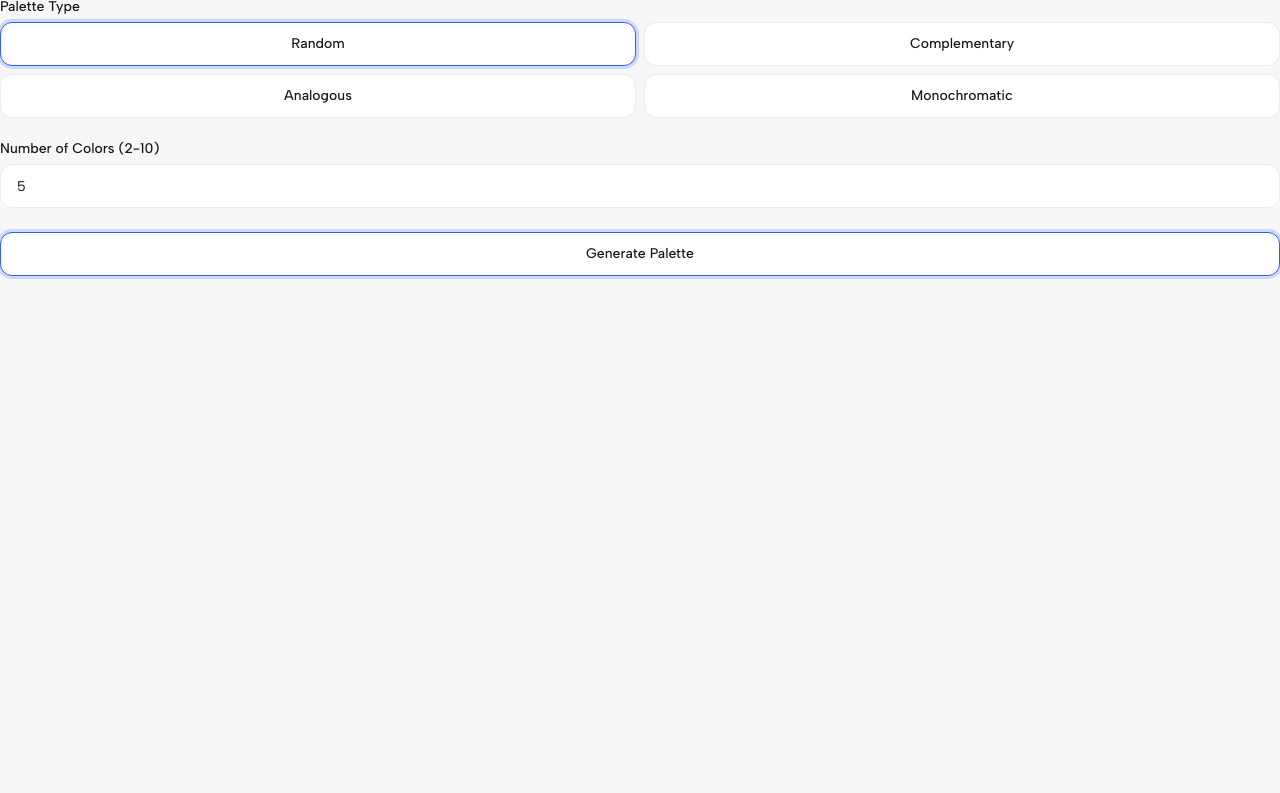
Test: ColorPaletteGeneratorTool › generates monochromatic palette
Click the button "Monochromatic". click: click(962, 96)
box: [644,74,1279,118]
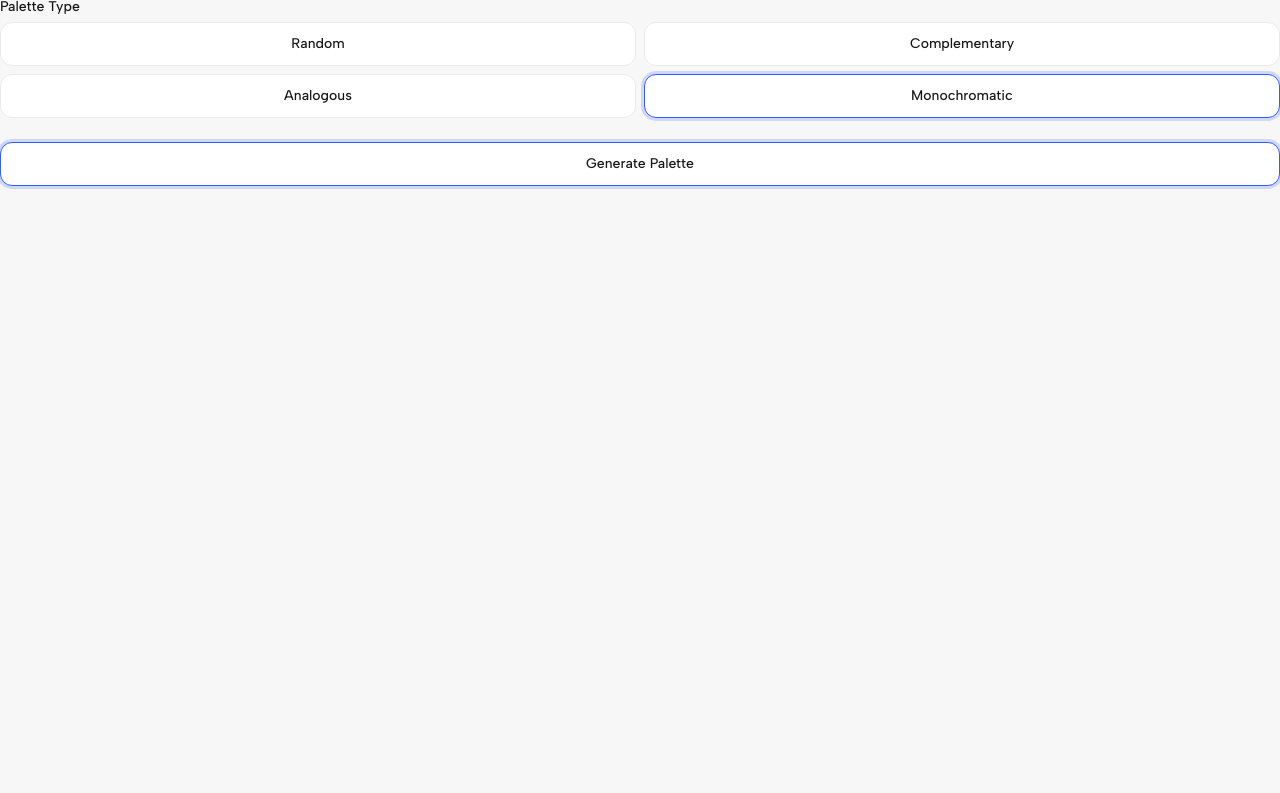
Click the button "Generate Palette". click: click(640, 164)
box: [0,142,1279,186]
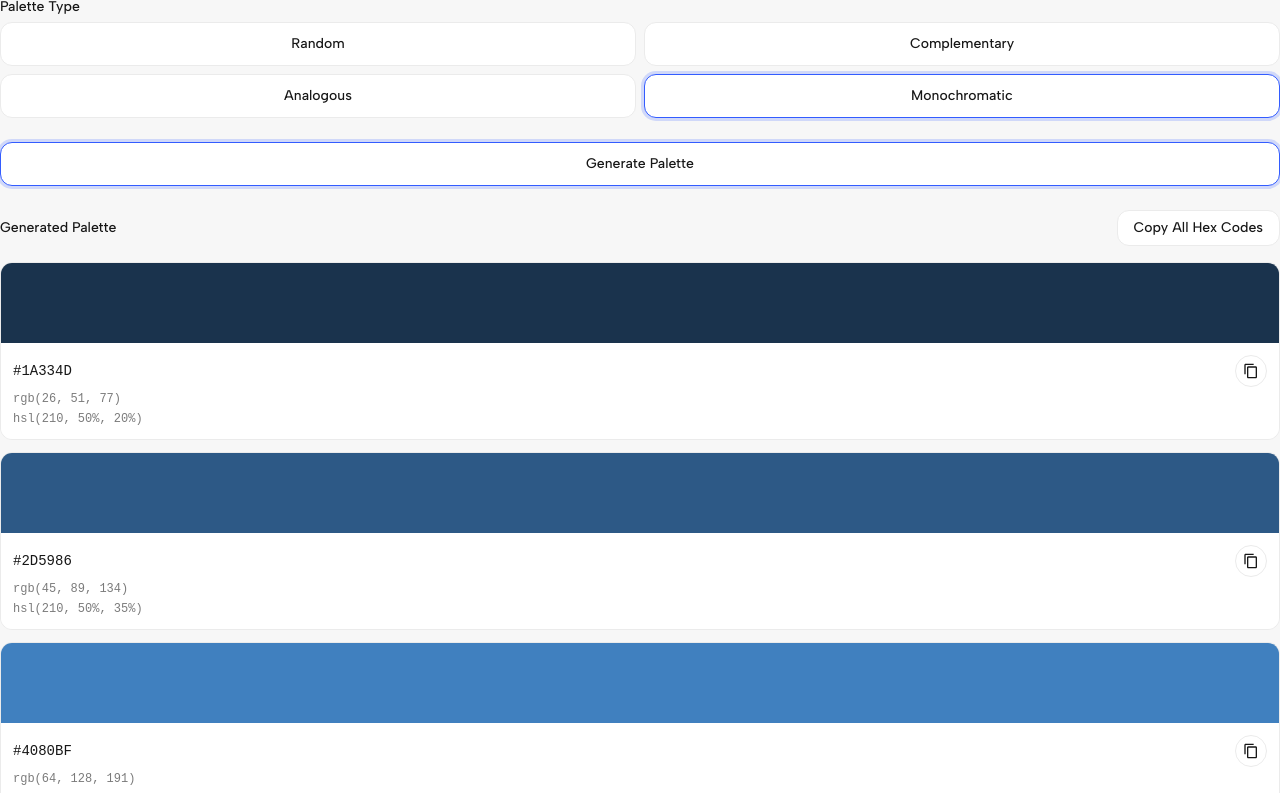
Expected: the text "Generated Palette" is shown, [0,221,116,235]
